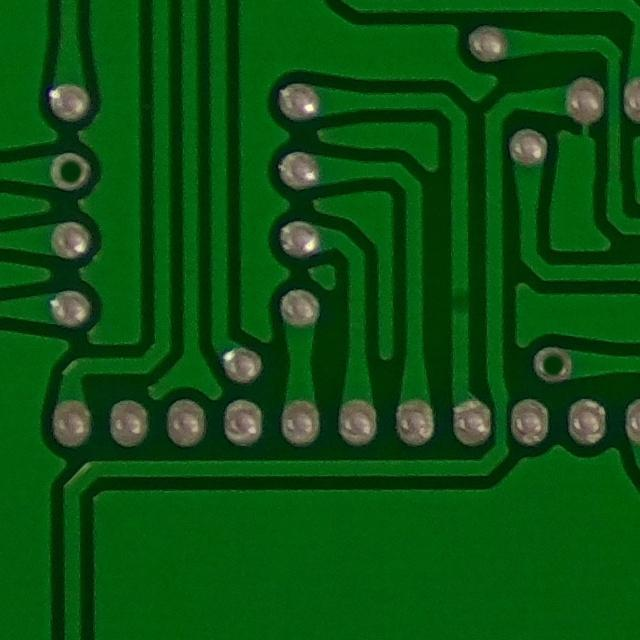missing_hole: (522, 335, 587, 390), (44, 149, 95, 195)
